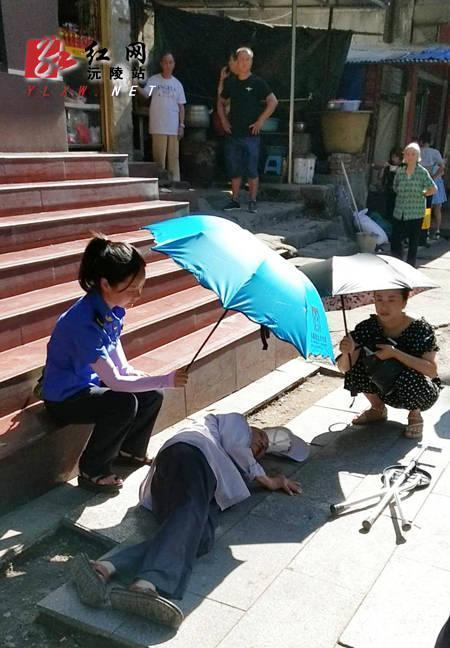Fall-Detected: (56, 396, 302, 636)
